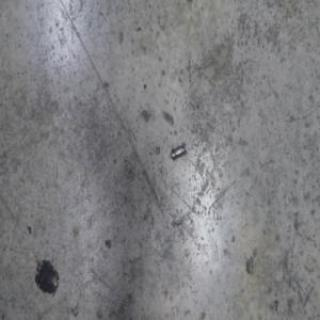Bolttrack_idkeyframe: (169, 140, 186, 160)
